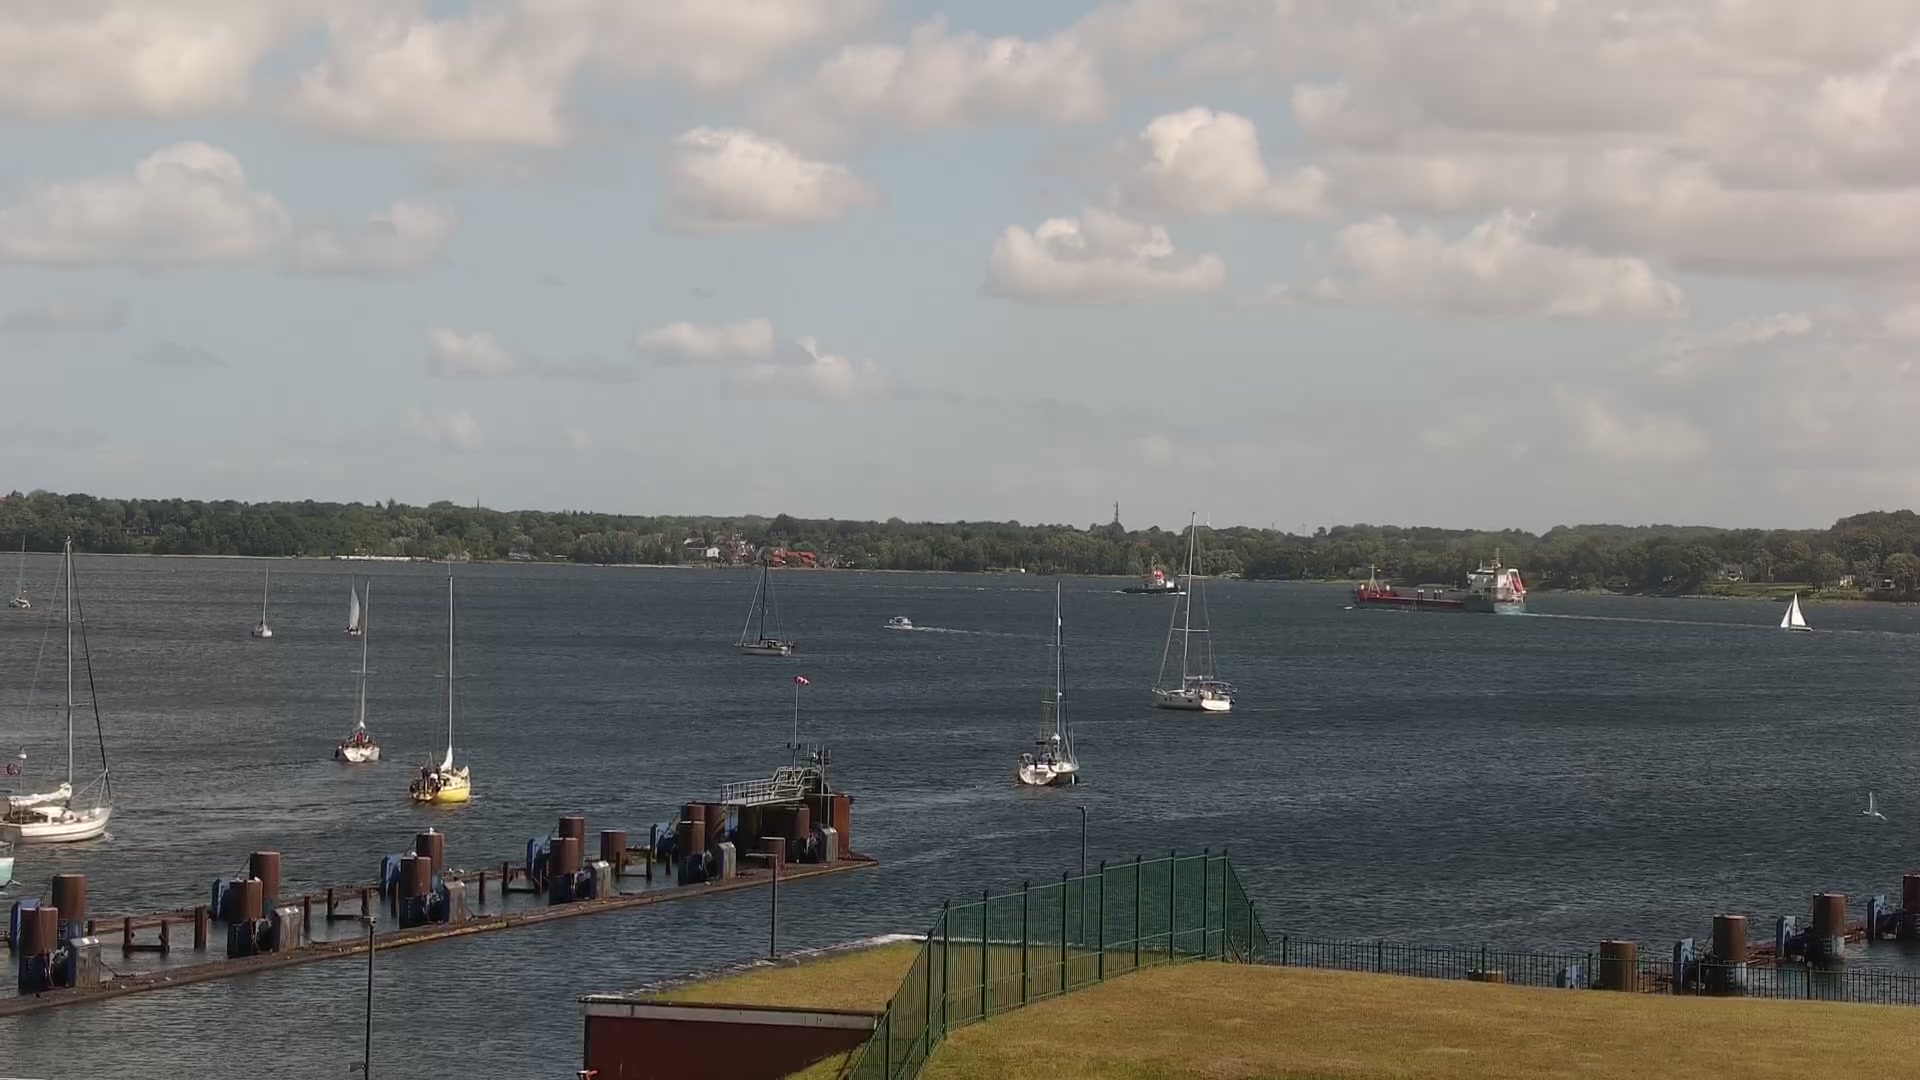sea: (1, 534, 113, 844), (1149, 508, 1240, 711), (406, 556, 472, 807), (1017, 579, 1080, 787), (1352, 545, 1528, 615), (334, 574, 382, 764), (731, 551, 796, 657), (7, 527, 32, 611), (1122, 563, 1180, 593), (251, 564, 273, 638), (1778, 589, 1815, 633), (342, 572, 363, 640), (887, 615, 914, 632)
